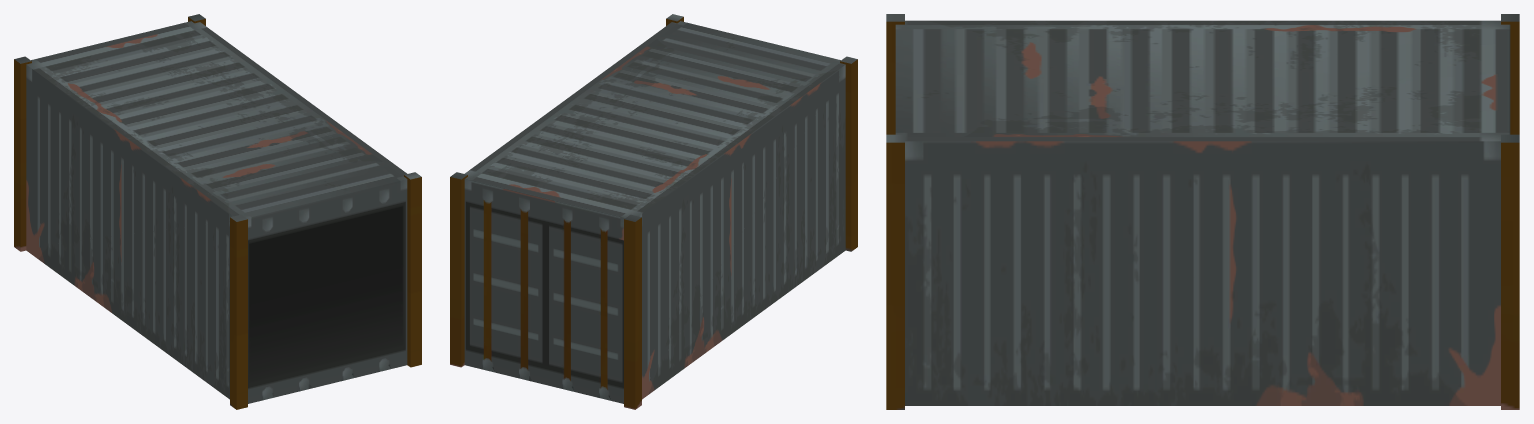
Rendered from Building_AncientMediumContainer.glb.
The picture shows the model from 3 angles, left to right: view 1: azimuth 30°, elevation 25°; view 2: azimuth 150°, elevation 25°; view 3: azimuth 270°, elevation 25°; orthographic projection. The views are drawn at different scales.
Visible parts, largest first — view 1: AncientMediumContainer; view 2: AncientMediumContainer; view 3: AncientMediumContainer.
Part boxes in pixels (x1,y1,x2,y2): AncientMediumContainer: [14, 14, 421, 409]; AncientMediumContainer: [450, 14, 857, 409]; AncientMediumContainer: [886, 14, 1519, 409].
Size of the model in its own units: 1.98 by 1.92 by 4.12.
1 material, 1 textured.
